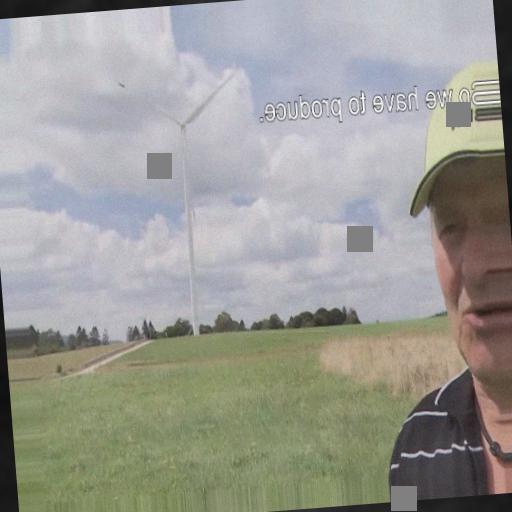wind turbine: (117, 60, 243, 339)
